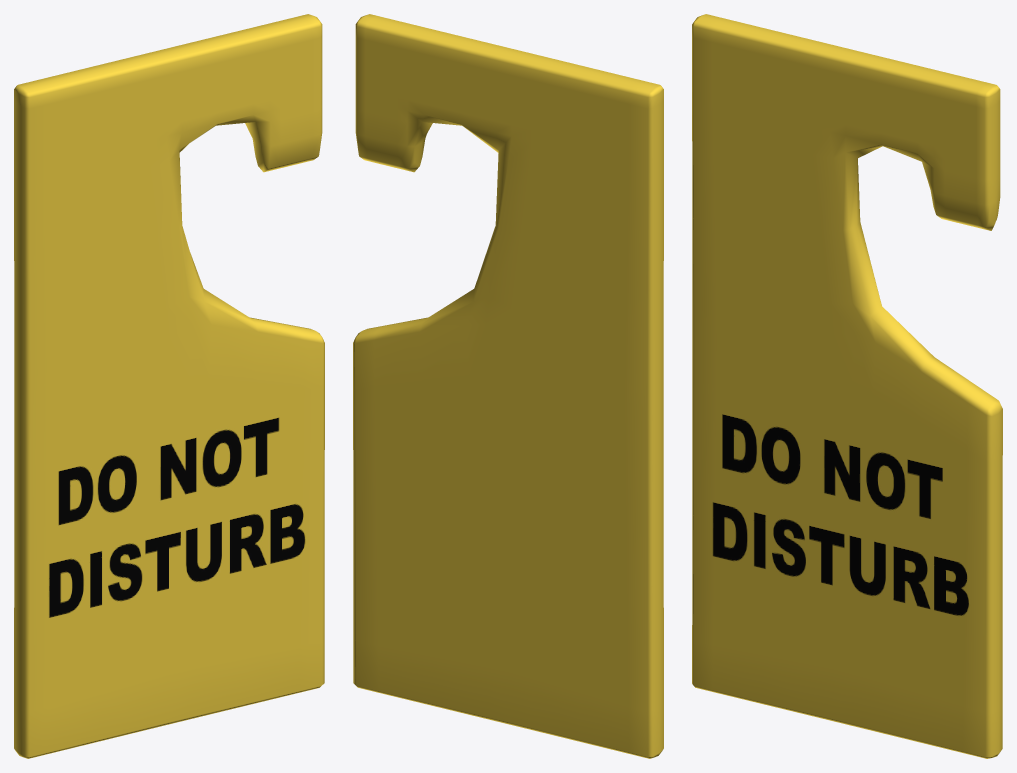
The model's file is Do_not_disturb_sign.fbx.
3 views of the same model, side by side, from view 1: azimuth 30°, elevation 25°; view 2: azimuth 150°, elevation 25°; view 3: azimuth 330°, elevation 25° (orthographic).
Parts seen in each view (by area): view 1: pCube6; view 2: pCube6; view 3: pCube6.
Part boxes in pixels (x1,y1,x2,y2): pCube6: (14, 14, 324, 758); pCube6: (353, 14, 663, 758); pCube6: (692, 14, 1002, 758).
Size of the model in its own units: 1.77 by 3.75 by 0.145.
